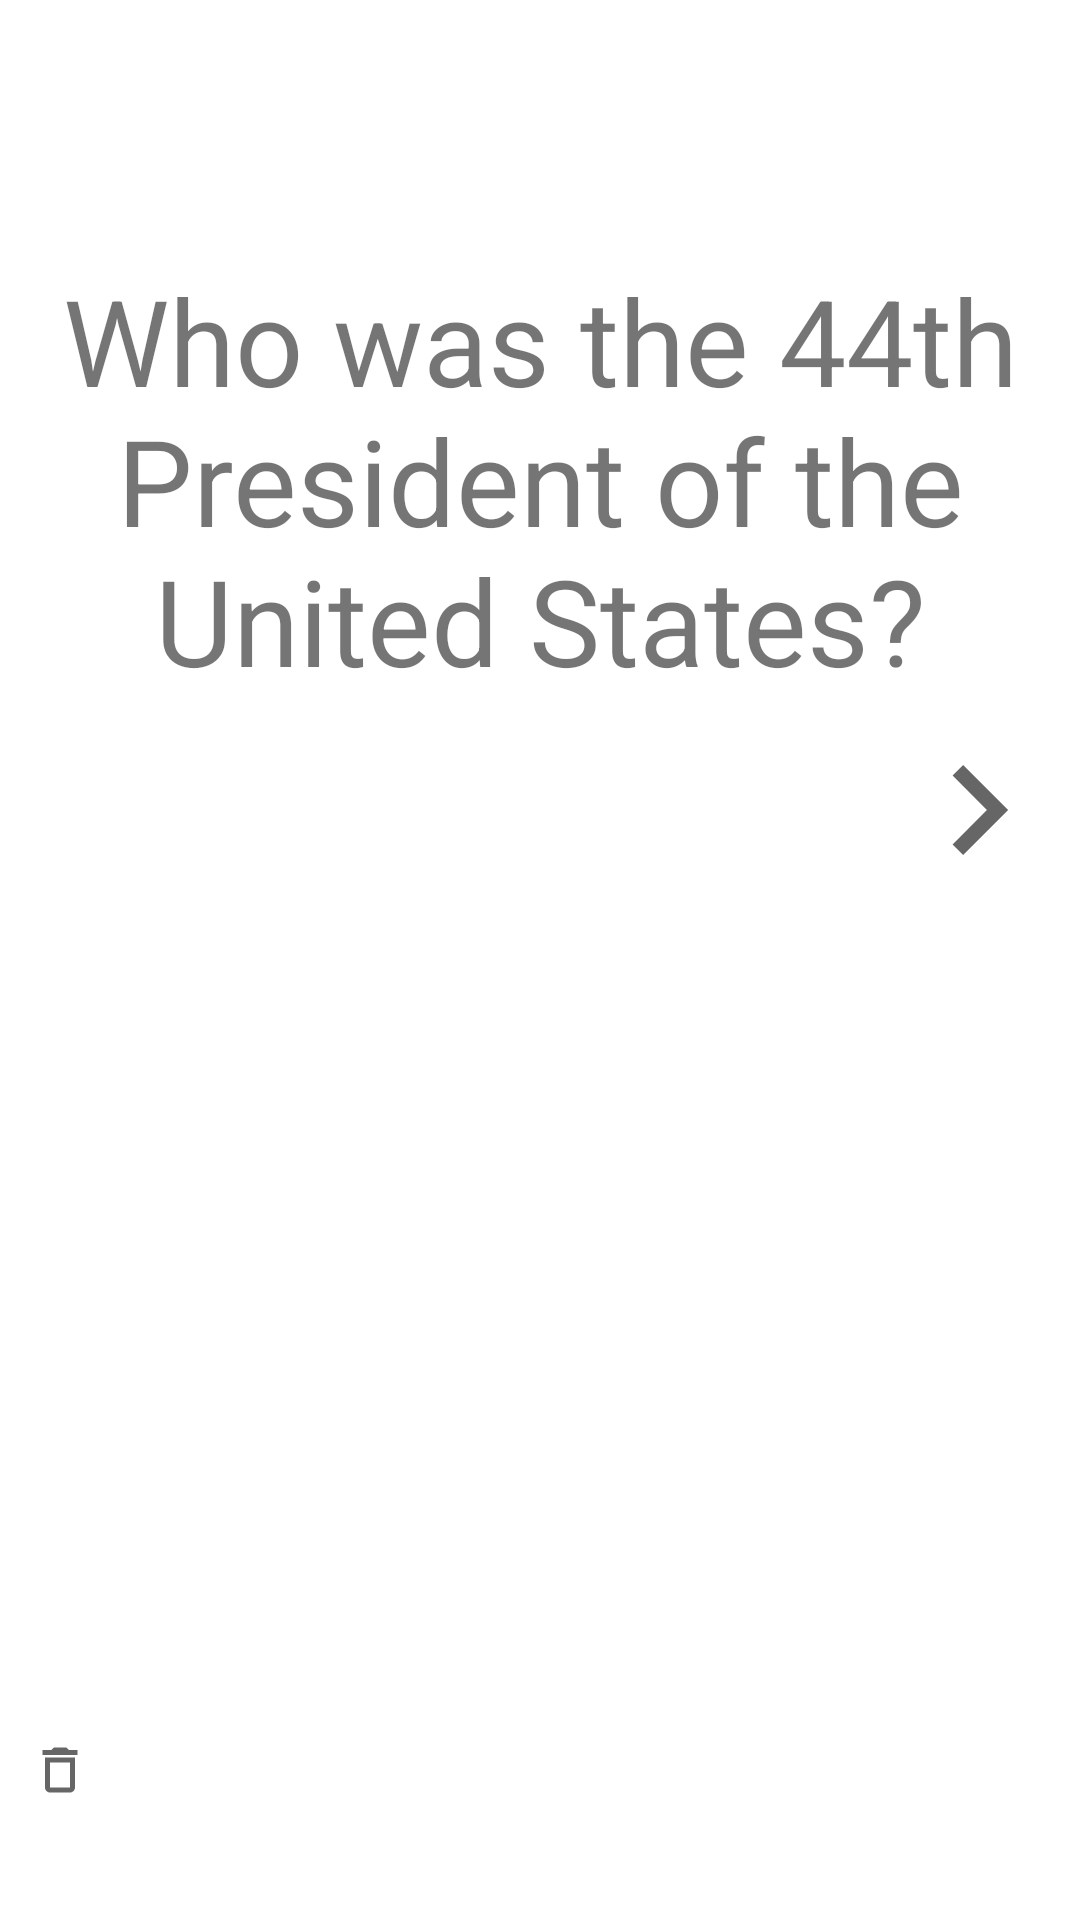

Named icons in this screenshot (1080w x 1920h) and their bounding boxes, (x1=x1, y1=y1, x2=x2, y2=y2):
delete: (x1=42, y1=1747, x2=78, y2=1793)
next: (x1=952, y1=765, x2=1008, y2=855)
